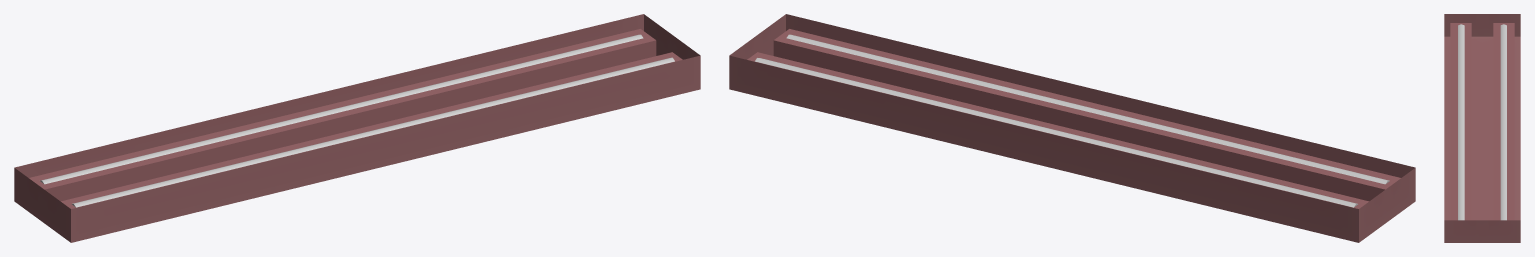
The model's file is fluorescent_lamp.fbx.
3 renders of one model, left to right at view 1: azimuth 30°, elevation 25°; view 2: azimuth 150°, elevation 25°; view 3: azimuth 270°, elevation 25°, orthographic. The views are drawn at different scales.
Visible parts, largest first — view 1: fluorescent_lamp; view 2: fluorescent_lamp; view 3: fluorescent_lamp.
Boxes of the visible parts, bbox=[...] form: fluorescent_lamp: bbox=[14, 14, 700, 242]; fluorescent_lamp: bbox=[729, 14, 1415, 242]; fluorescent_lamp: bbox=[1444, 14, 1520, 242].
Size of the model in its own units: 124 by 6.35 by 19.33.
1 material, 1 textured.
